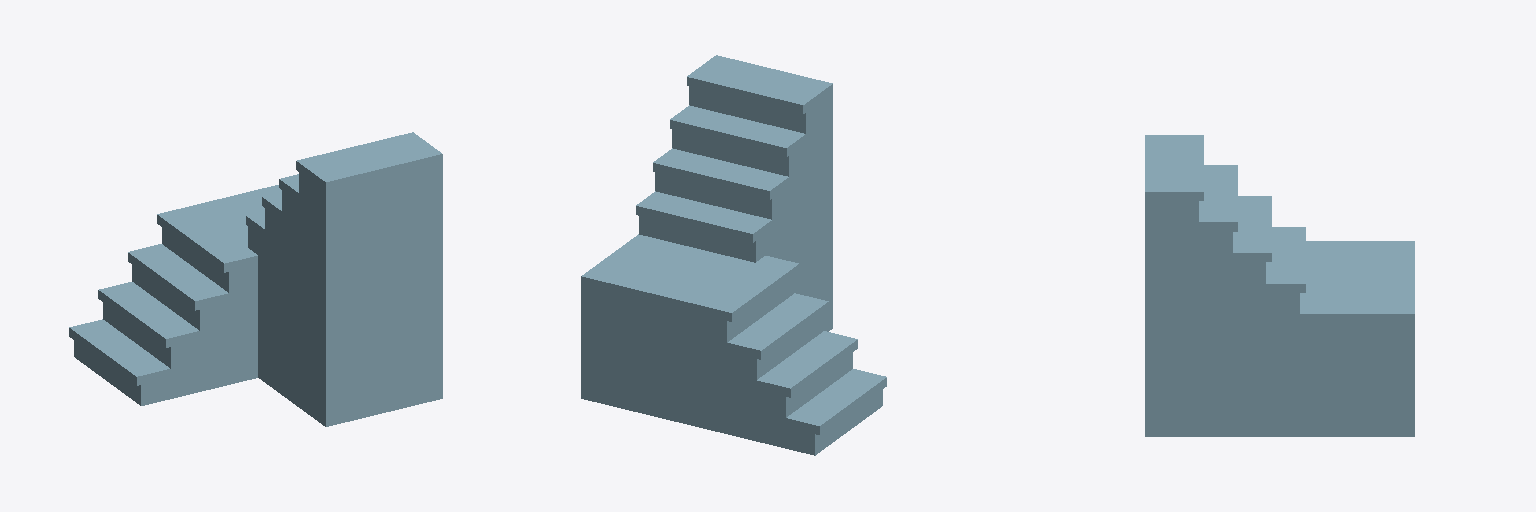
3 views of the same model, side by side, from view 1: azimuth 30°, elevation 25°; view 2: azimuth 150°, elevation 25°; view 3: azimuth 270°, elevation 25° (orthographic).
Visible parts, largest first — view 1: stairsStoneCorner; view 2: stairsStoneCorner; view 3: stairsStoneCorner.
Part boxes in pixels (x1,y1,x2,y2): stairsStoneCorner: (69, 132, 442, 426); stairsStoneCorner: (581, 55, 886, 455); stairsStoneCorner: (1145, 135, 1414, 436).
Bounding box in the file's own units: 1 × 0.9804 × 0.9804.